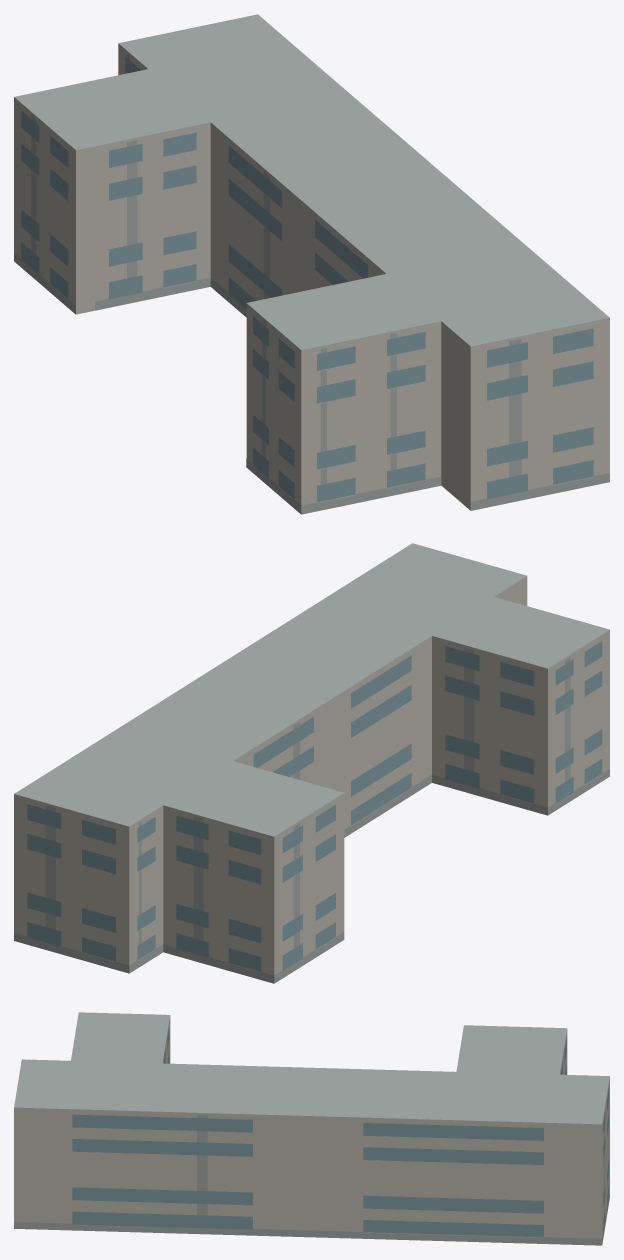
Rendered from residential-41f8a022-2f13-4c75-8317-5131f728346a.glb.
3 renders of one model, top to bottom at view 1: azimuth 30°, elevation 25°; view 2: azimuth 150°, elevation 25°; view 3: azimuth 270°, elevation 25°, orthographic. The views are drawn at different scales.
Visible parts, largest first — view 1: residential-41f8a022-2f13-4c75-8317-5131f728346a.tmp; view 2: residential-41f8a022-2f13-4c75-8317-5131f728346a.tmp; view 3: residential-41f8a022-2f13-4c75-8317-5131f728346a.tmp.
Boxes of the visible parts, box(x1,y1,x2,y2) form: residential-41f8a022-2f13-4c75-8317-5131f728346a.tmp: box(14, 14, 609, 514); residential-41f8a022-2f13-4c75-8317-5131f728346a.tmp: box(14, 543, 609, 983); residential-41f8a022-2f13-4c75-8317-5131f728346a.tmp: box(14, 1012, 609, 1245).
Bounding box in the file's own units: 30.25 × 15.25 × 67.94.
